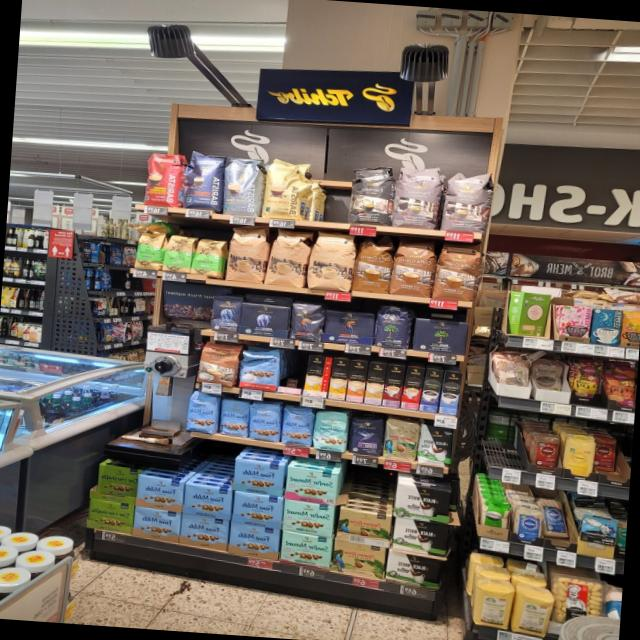AB Bohne: (209, 294, 243, 334)
AB Gemahlen: (238, 302, 291, 338)
Athiopien Bohne: (132, 230, 166, 271)
Athiopien Gemahlen: (189, 237, 228, 277), (160, 233, 198, 274)
BM Bohne: (371, 302, 414, 350)
BM Gemahlen: (410, 317, 470, 355)
BW Bohne: (416, 421, 454, 467)
BW Gemahlen: (392, 483, 451, 524), (391, 517, 450, 558), (384, 550, 443, 590)
Barista CB: (259, 157, 317, 222)
Barista CC: (221, 154, 265, 218)
Barista Espresso: (180, 148, 227, 212)
Barista Kolumbien: (142, 150, 186, 208)
C Fino Bohne: (348, 417, 385, 456)
CC Mild: (304, 230, 357, 293), (264, 227, 314, 288), (223, 222, 270, 284)
CC Vollmundig 36 Pads: (430, 243, 484, 303), (389, 240, 437, 298), (350, 237, 395, 295), (194, 342, 241, 388)
Colombia BB Bohne: (382, 415, 420, 461)
Colombia BB Gemahlen: (329, 539, 387, 582), (334, 506, 393, 547)
Empty Shelf: (276, 351, 306, 396)
Espresso Kraftig: (345, 164, 396, 226)
Espresso M Art: (438, 169, 498, 235), (390, 164, 448, 231)
FM 36 Pads: (236, 346, 284, 392)
FM Bohne: (183, 391, 220, 435), (246, 401, 282, 442), (280, 404, 315, 446), (218, 396, 250, 437)
FM Gemahlen: (230, 456, 287, 498), (230, 489, 283, 531), (227, 521, 280, 562), (178, 512, 228, 553), (181, 481, 233, 520), (135, 474, 183, 513), (132, 505, 180, 544)
Herzhatfe Mundig: (85, 497, 135, 536)
LG Bohne: (287, 300, 325, 342)
LG Gemahlen: (319, 308, 376, 346)
SM Bohne: (310, 408, 349, 452)
SM Gemahlen: (282, 464, 339, 506), (278, 528, 334, 570), (279, 498, 336, 539)
Simo CCMild: (302, 353, 332, 398)
Simo CCMild bigpack: (326, 356, 350, 402)
Simo CCVollmundig bigpack: (344, 359, 369, 404)
Simo Decaff: (362, 360, 388, 407)
Simo Es Elegant: (398, 364, 427, 412)
Simo Es Kraft: (380, 363, 406, 409)
Simo Kaffee Kraft: (418, 367, 445, 413)
Simo Kaffee Mild: (437, 370, 463, 416)
